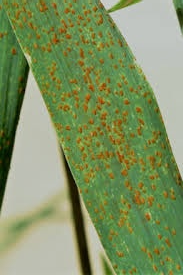Leaf Rust: (38, 22, 166, 233)
